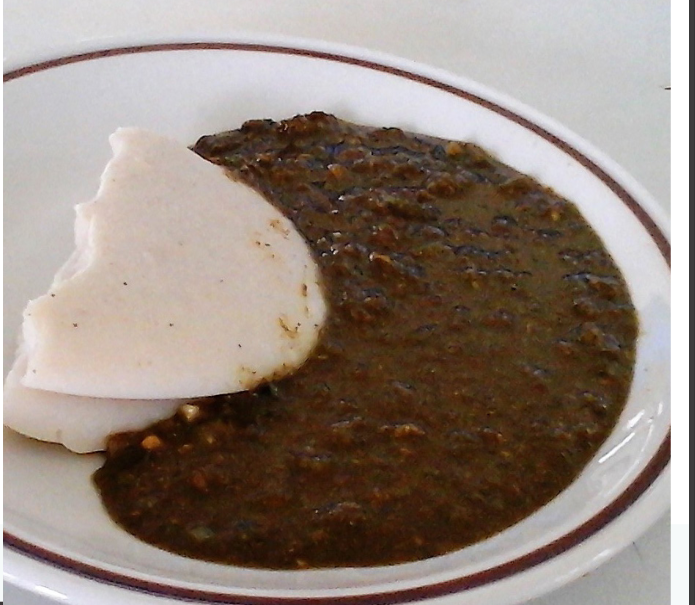sauce gombo sec: (406, 178, 579, 478)
toh maiis: (61, 172, 231, 371)
